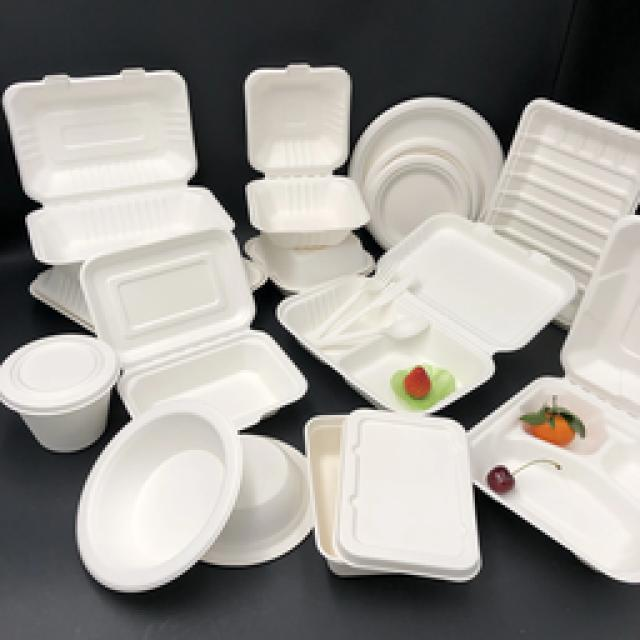inorganic: (86, 230, 308, 433), (7, 70, 222, 267), (471, 381, 636, 575), (77, 404, 236, 590), (487, 103, 637, 300), (282, 275, 492, 414), (380, 219, 569, 352), (246, 68, 368, 246), (199, 435, 314, 568), (0, 332, 120, 450)
